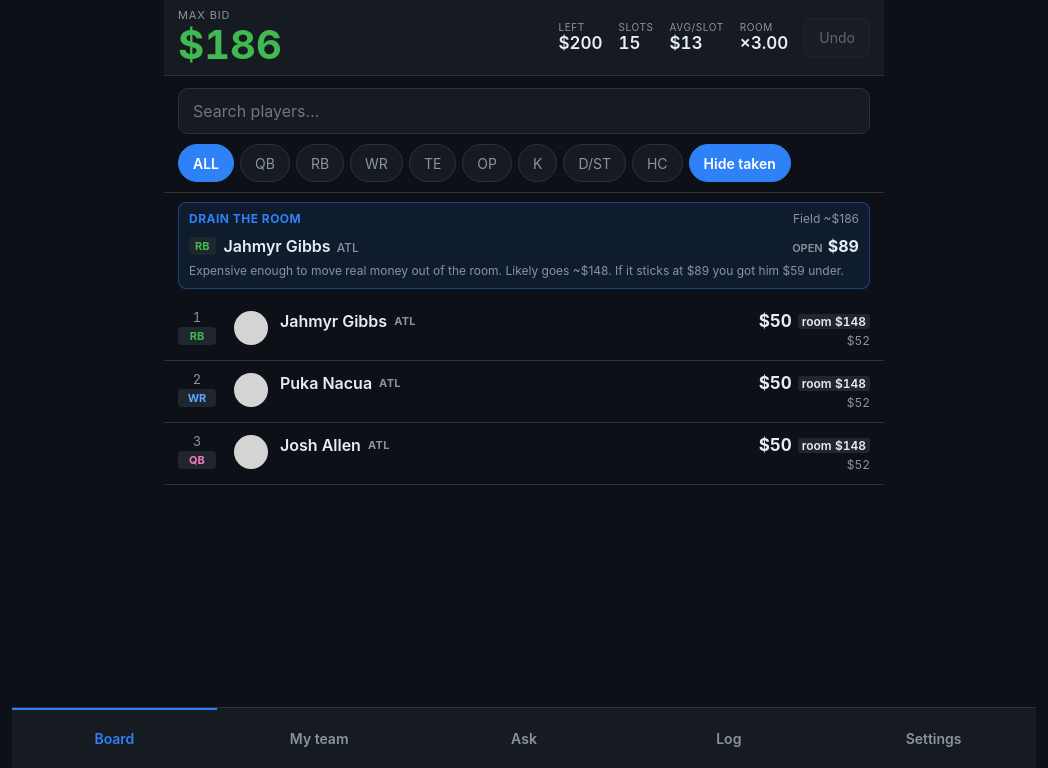
it: draft board end to end › drops the board controls on other tabs but keeps the budget bar pinned
The width and height of the screenshot is (1048, 768).
Click the button "My team": click(319, 738) 217,708 -> 422,767
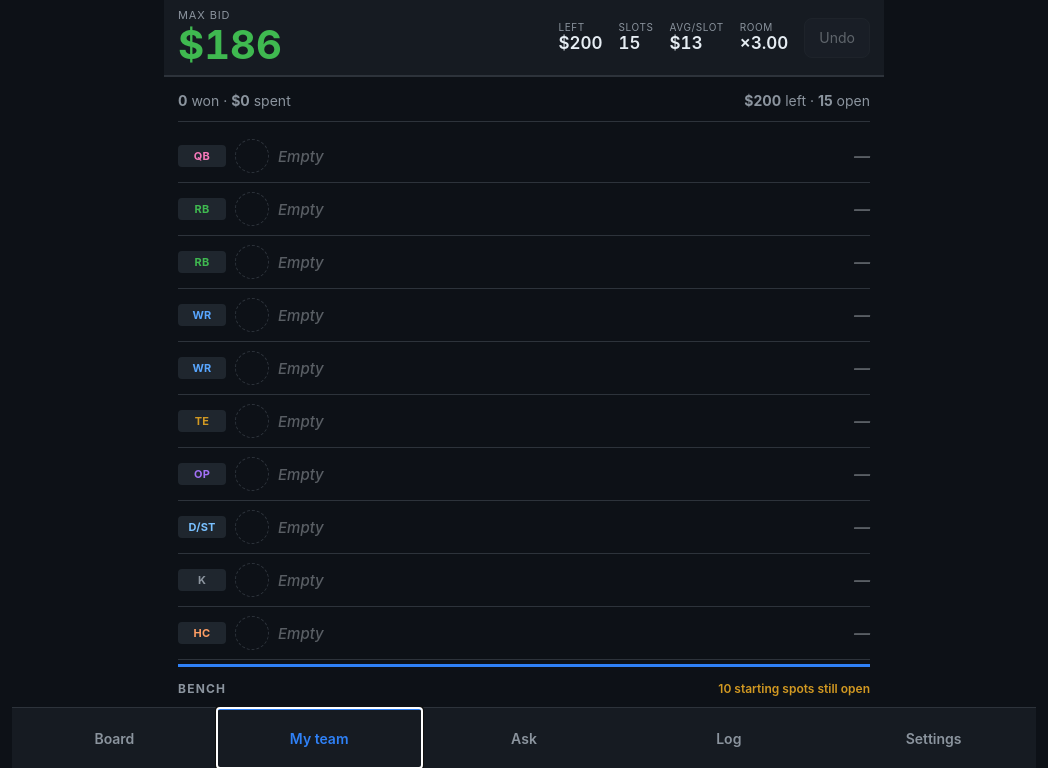
Check: the header with class "budget-bar" is shown, box 164,0 -> 884,76
Check: the element with class "controls" is gone
